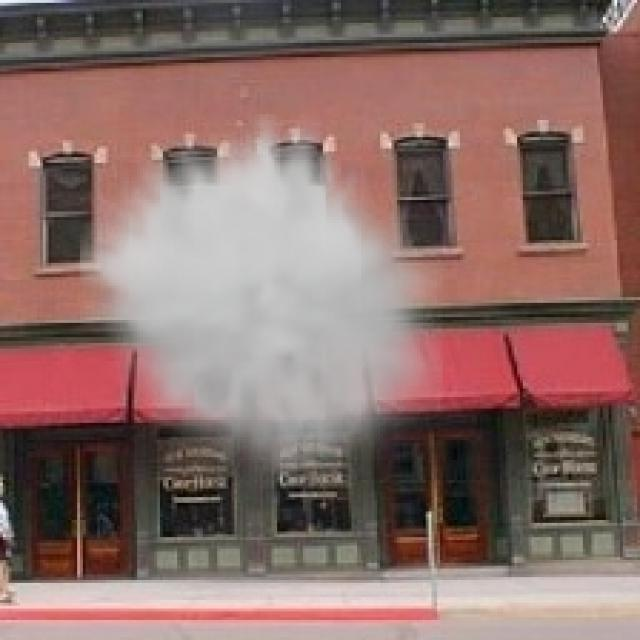Smoke: (80, 114, 443, 489)
